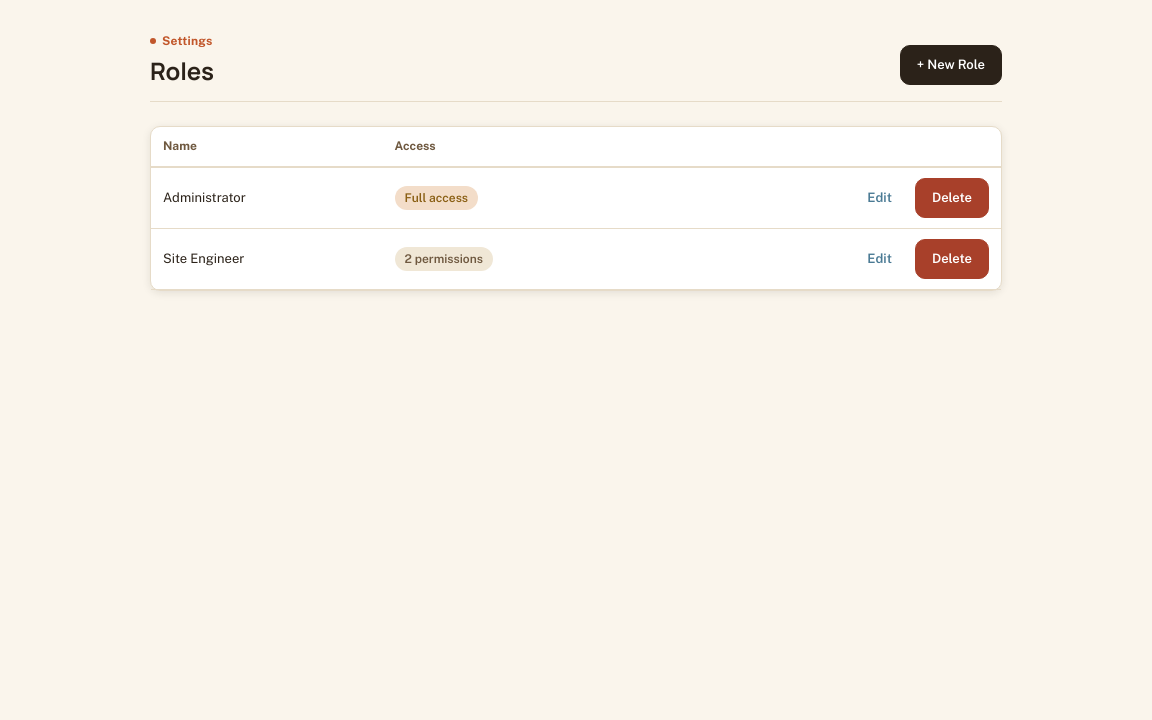
Test: RolesPage › opens the create form and shows the real permission catalog
Expected: the text "Administrator" is shown, [151,167,383,229]
Step 1. Click the button "+ New Role" → click(951, 65), box [900,45,1002,85]
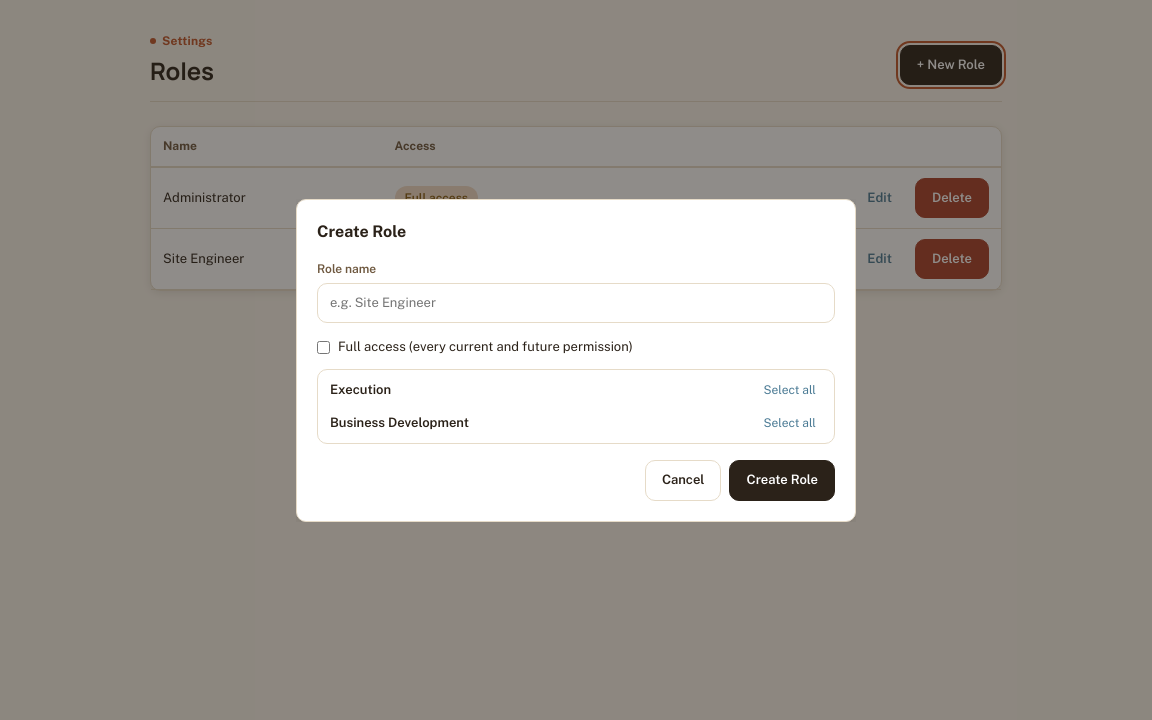
Expected: the text "Execution" is shown, [330,380,391,400]
Expected: the text "Business Development" is shown, [330,413,469,433]
